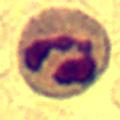eosi: (14, 6, 111, 100)
